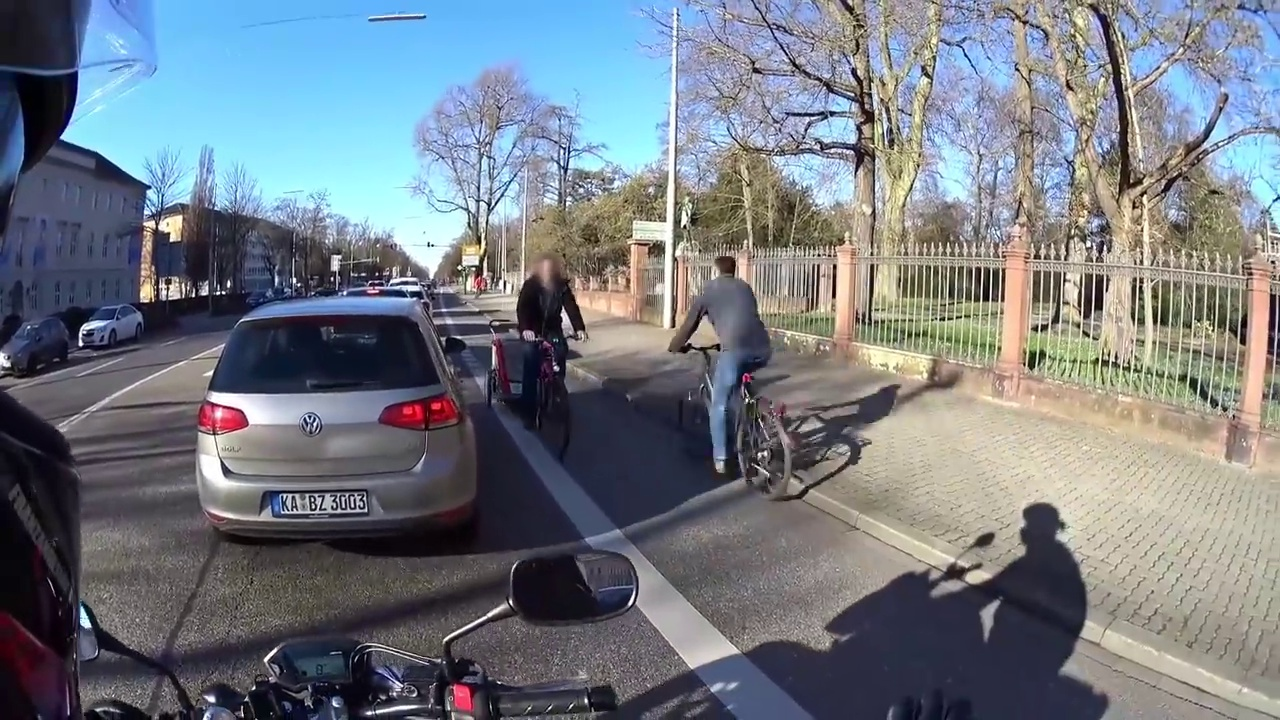cyclist_back: (654, 245, 833, 517)
cyclist_front: (498, 244, 591, 462)
